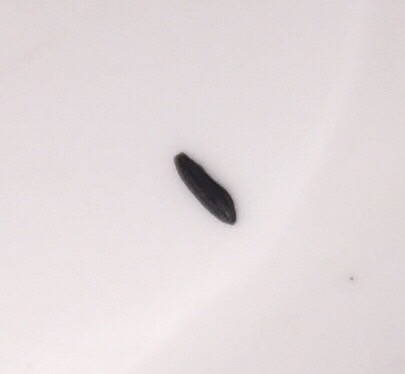Gao Nep Cam: (171, 149, 241, 230)
